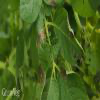Potato leaf early blight: (52, 7, 87, 68), (30, 18, 51, 99), (56, 61, 88, 99)
